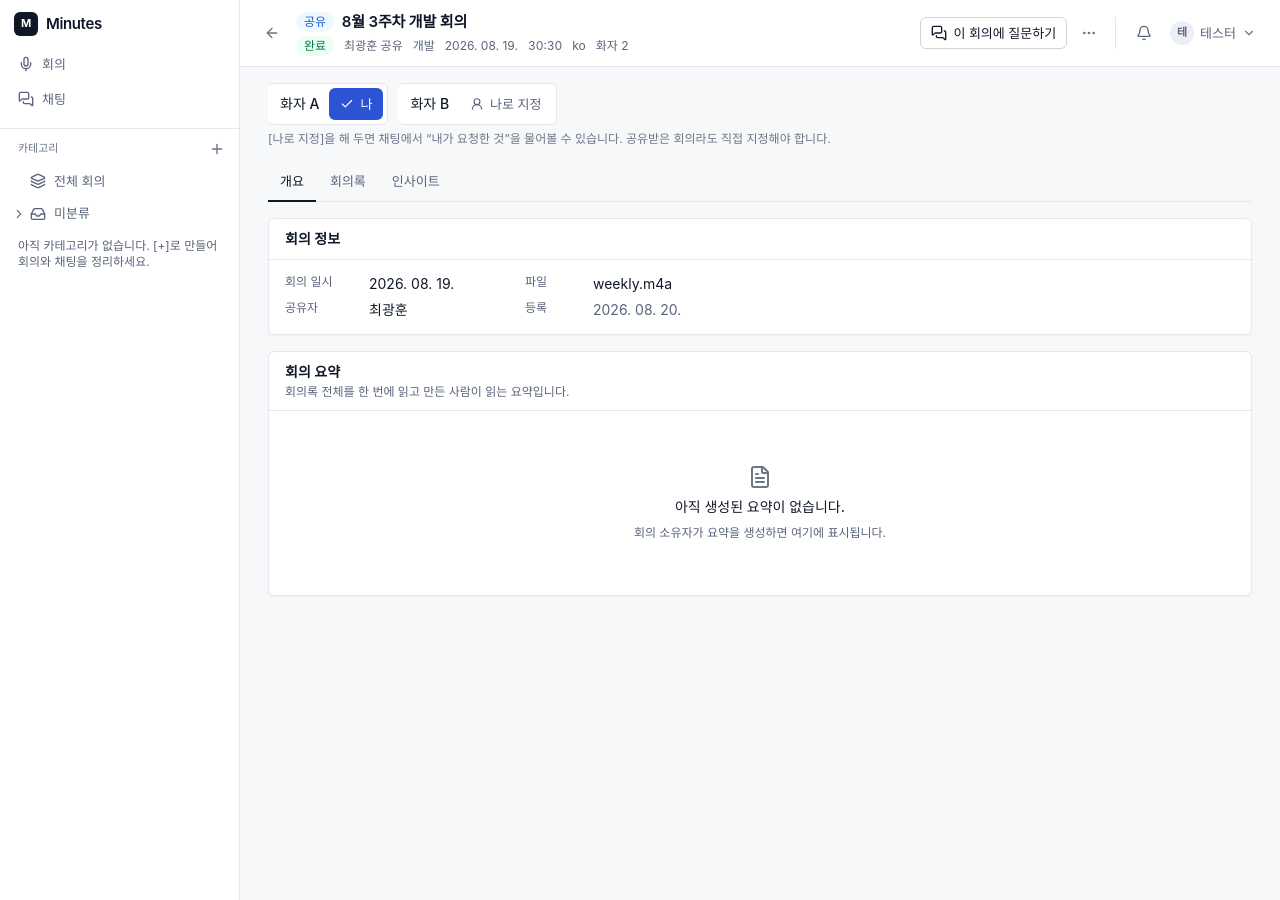
it: 공유받은 회의 (읽는 쪽) › 공유받은 회의의 삭제는 내 목록에서만 지운다고 말한다
Click the button named "8월 3주차 개발 회의 관리 메뉴": (1089, 33) [1075, 19, 1103, 47]
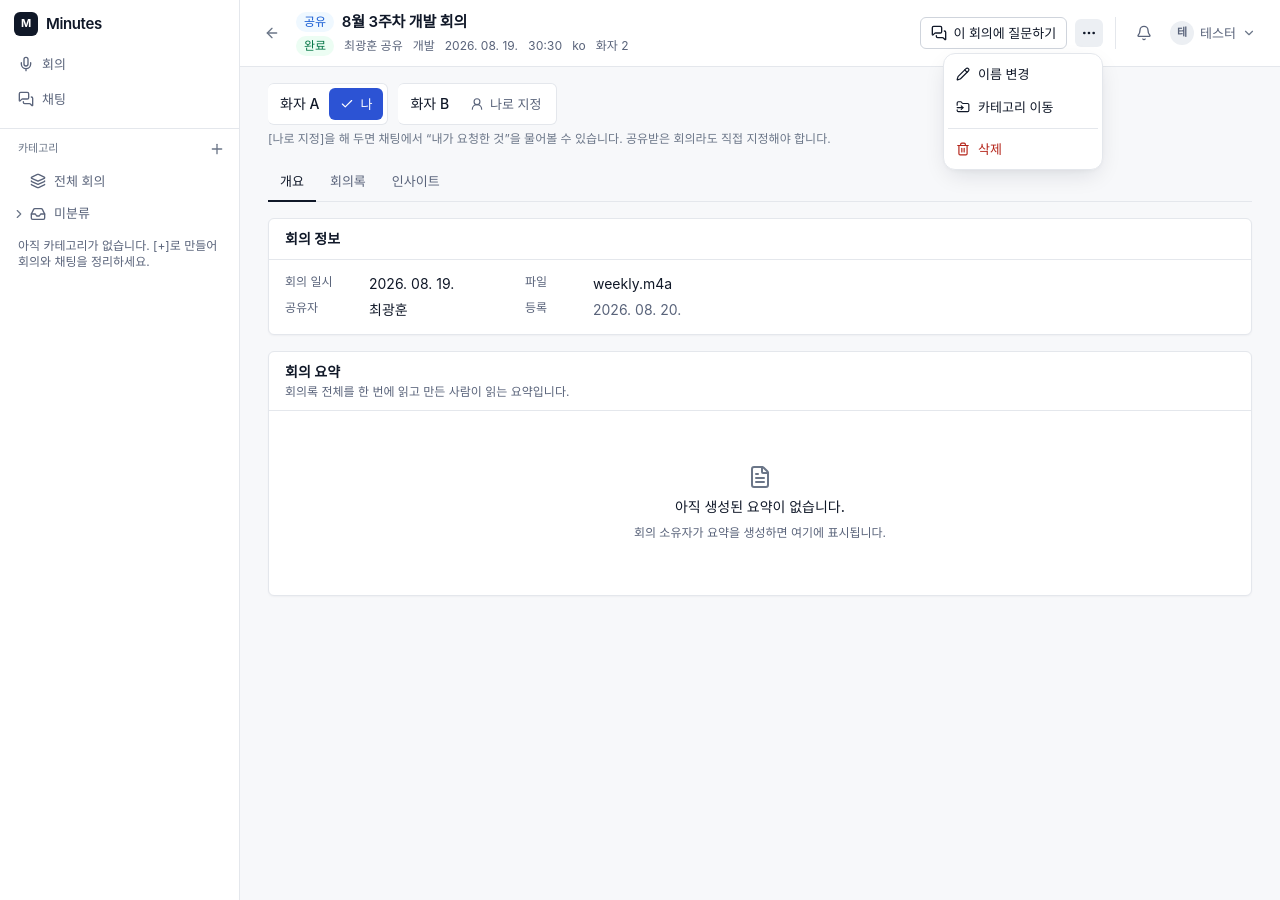
Click the menu item "삭제": (979, 149) [956, 141, 1002, 157]
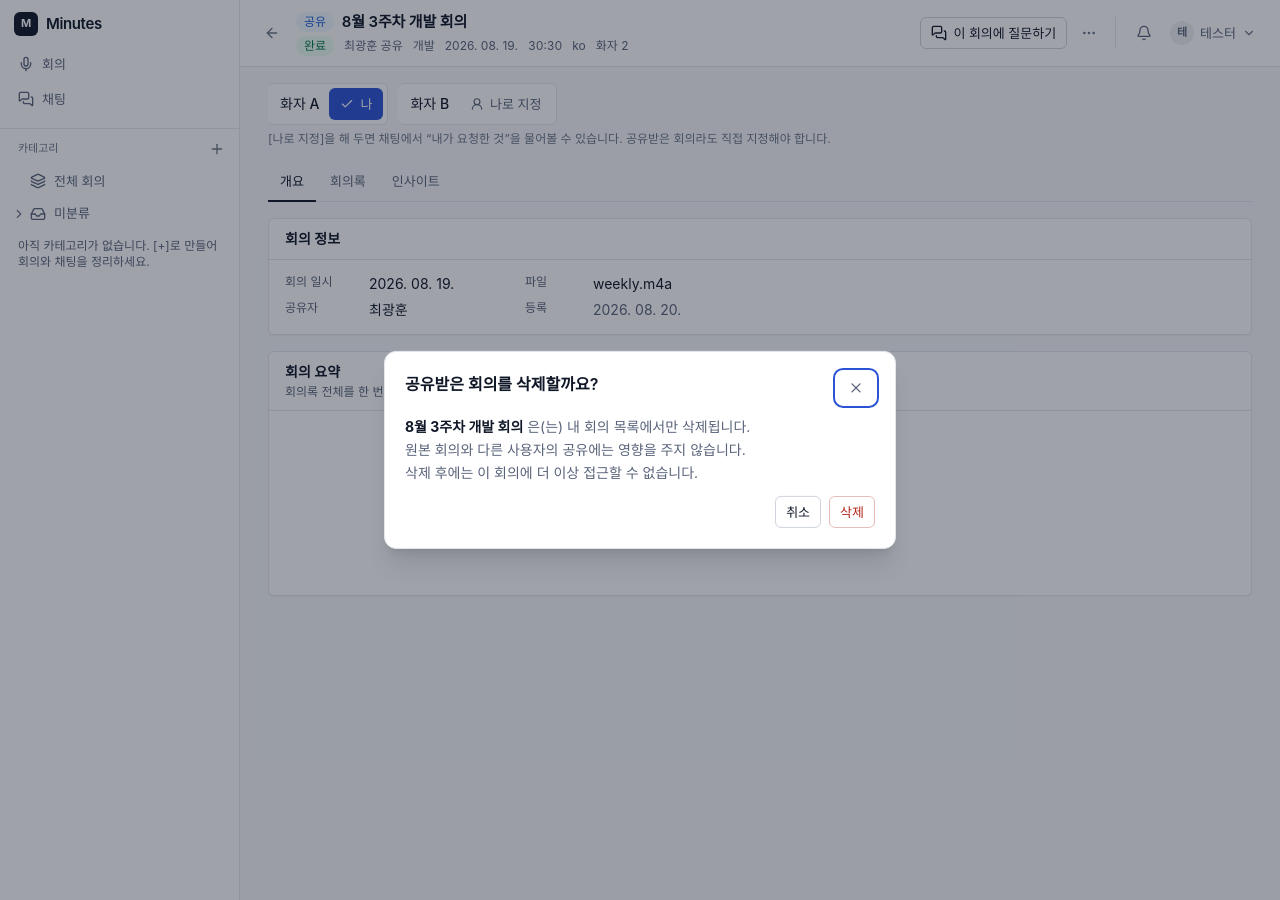
Now the heading "공유받은 회의를 삭제할까요?" is shown, box [405, 374, 598, 394]
Now the text "원본 회의와 다른 사용자의 공유에는 영향을 주지 않습니다" is shown, box [405, 441, 746, 458]
